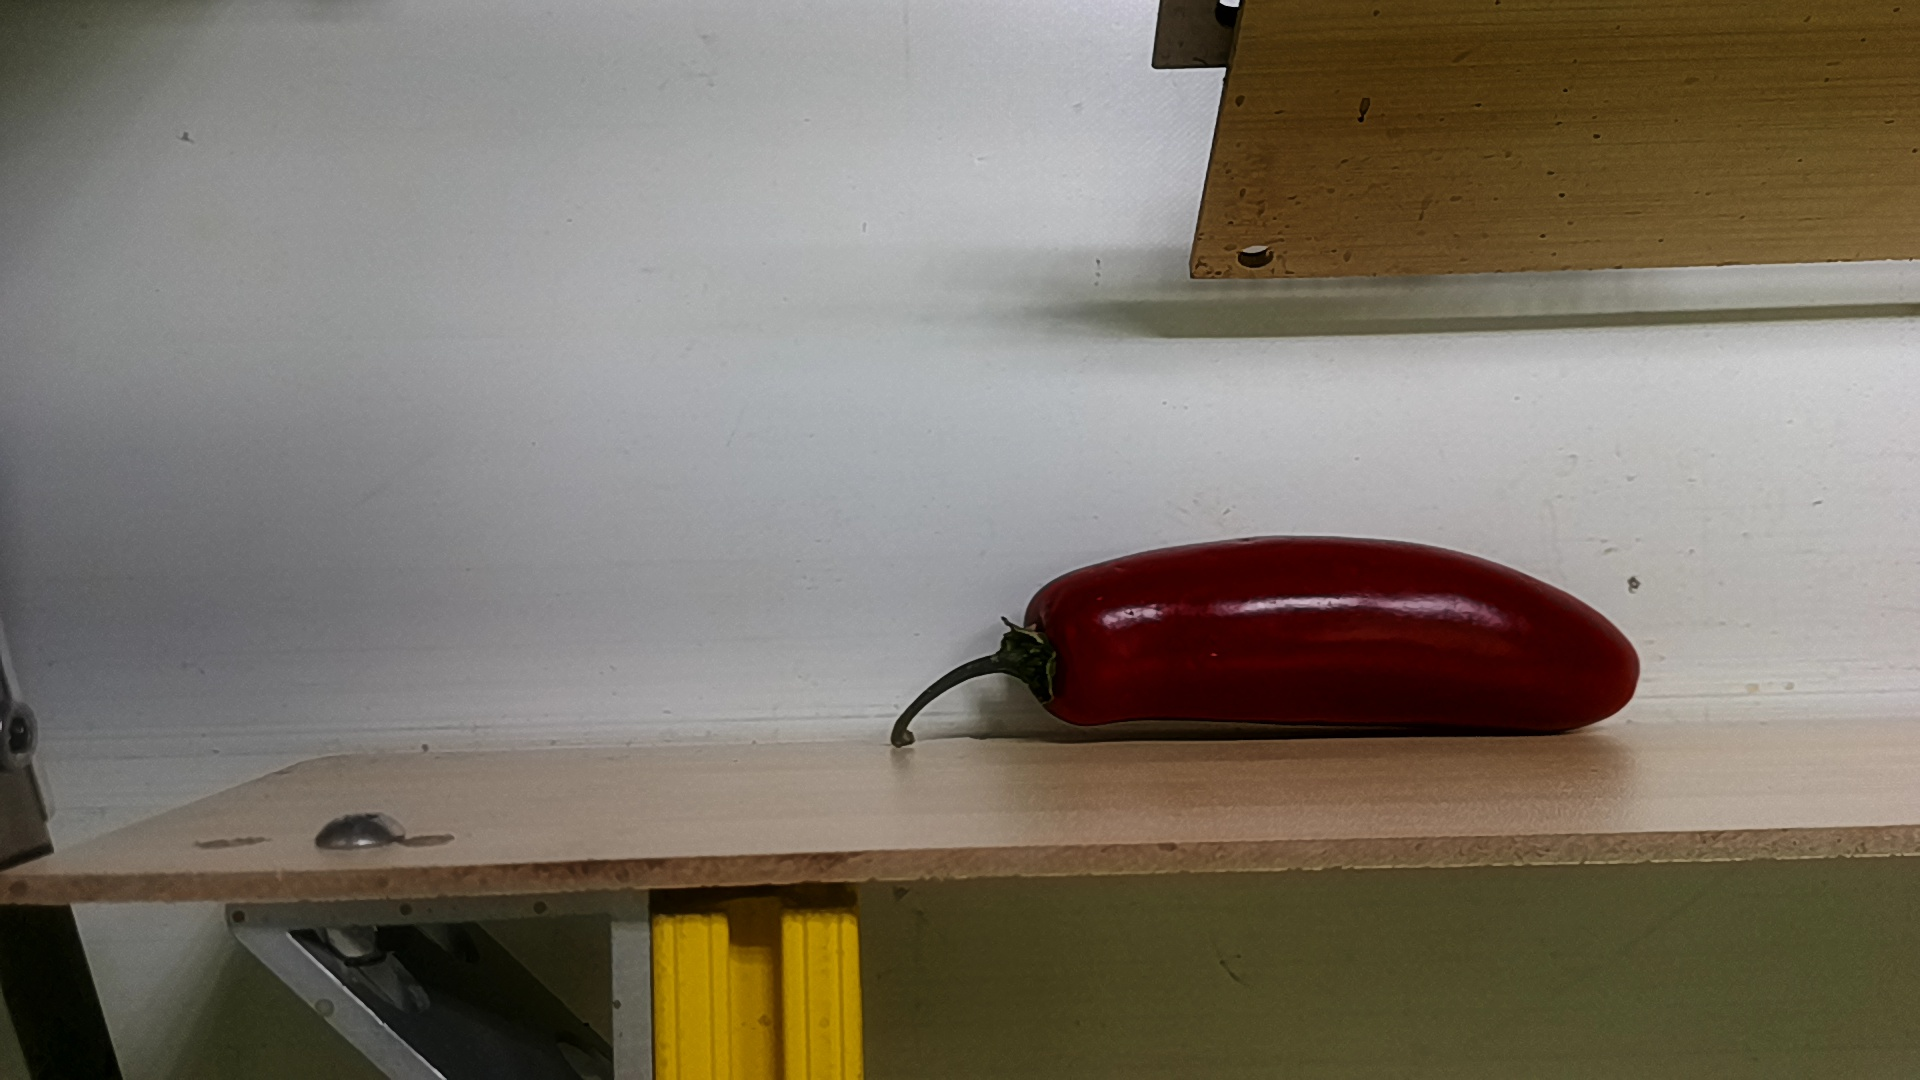Cut Point: (996, 567, 1104, 735)
